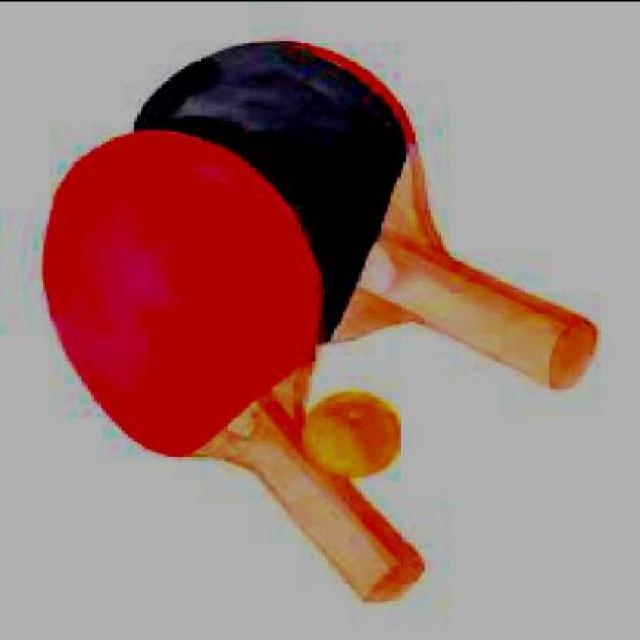table_tennis_racket: (42, 42, 600, 605)
